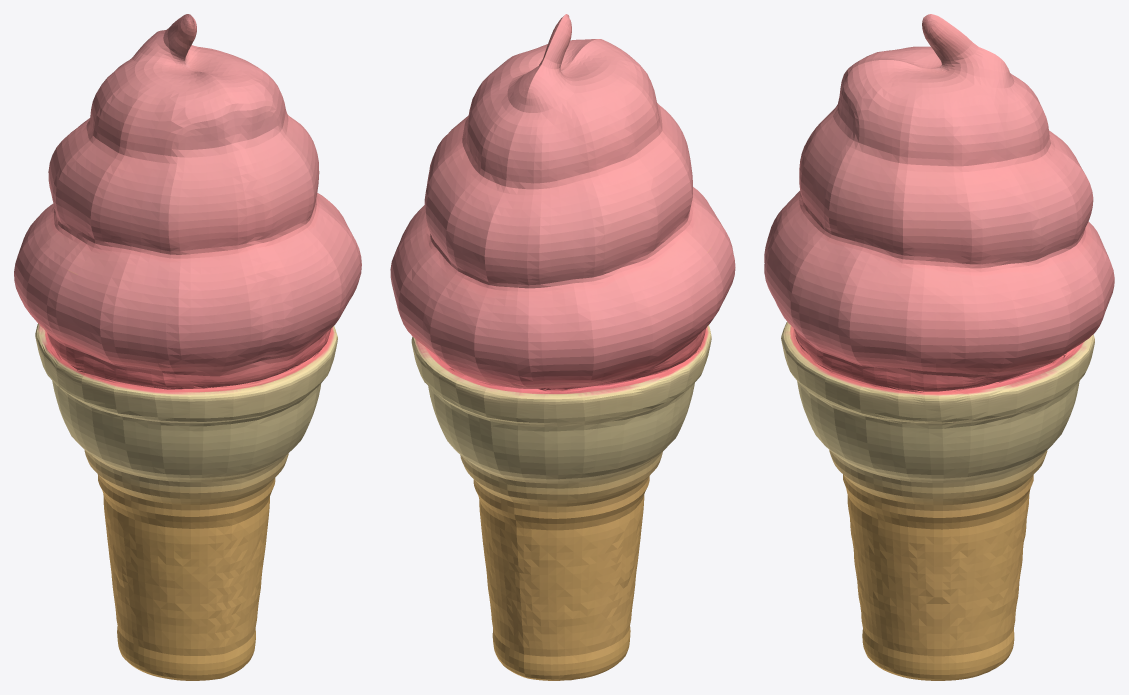
File: snack_scaled.glb
3 renders of one model, left to right at view 1: azimuth 30°, elevation 25°; view 2: azimuth 150°, elevation 25°; view 3: azimuth 270°, elevation 25°, orthographic.
Parts seen in each view (by area): view 1: model; view 2: model; view 3: model.
Boxes of the visible parts, x1=… form: model: x1=14, y1=14, x2=361, y2=680; model: x1=390, y1=14, x2=735, y2=680; model: x1=764, y1=14, x2=1114, y2=680.
Size of the model in its own units: 0.1485 by 0.3082 by 0.1519.
Materials: 1 (1 with a texture image).
